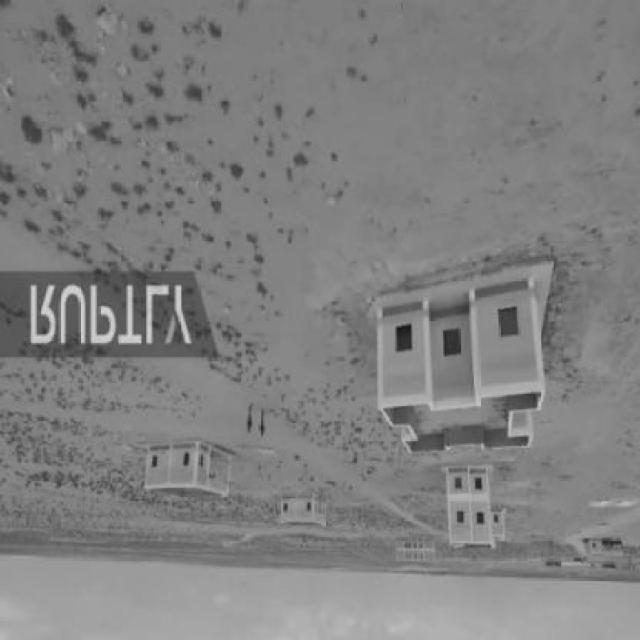Person: (244, 405, 255, 439), (259, 409, 266, 442)
